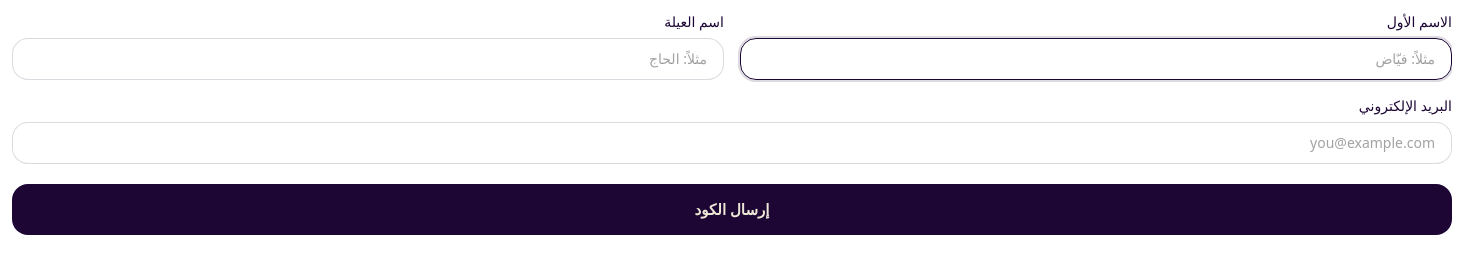
Scenario: EmailStep › register mode › requires both names before submitting
The image size is (1464, 274).
Type "fiez@example.com" into the field labelled "البريد الإلكتروني". click: (732, 143)
box: left=12, top=122, right=1452, bottom=164
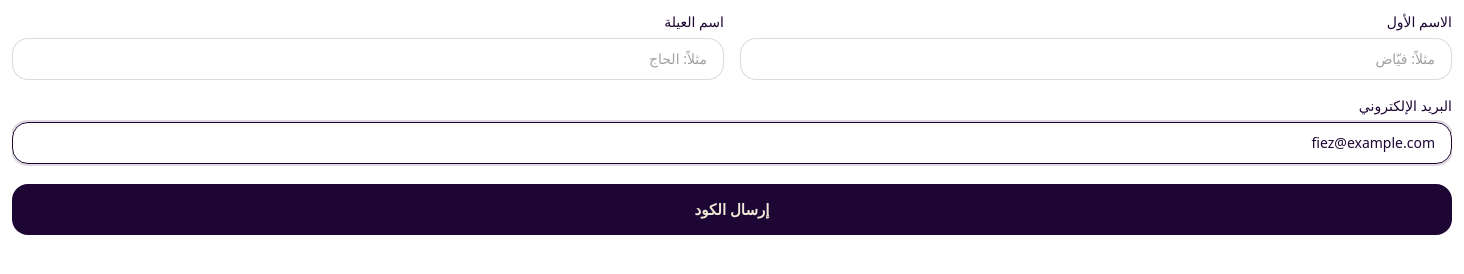
Click the button "إرسال الكود". click: (732, 209)
box: left=12, top=184, right=1452, bottom=234
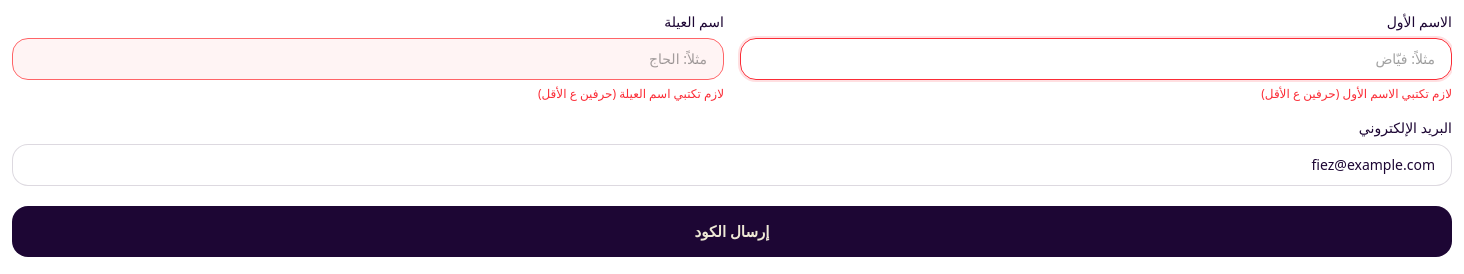
Expected: the text "لازم تكتبي الاسم الأول (حرفين ع الأقل)" is shown, left=1261, top=85, right=1452, bottom=102
